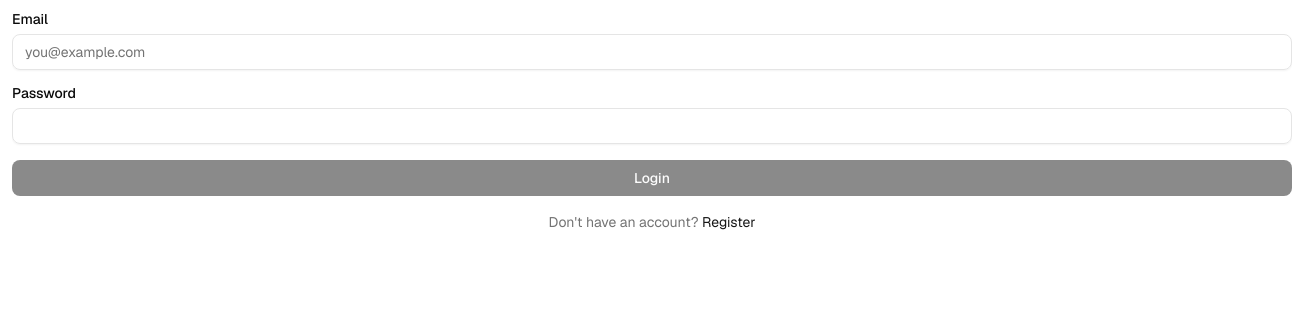
Test: LoginForm › should show generic error for other API errors
Type "test@example.com" into the field labelled "Email" at (652, 52), box [12, 34, 1292, 70]
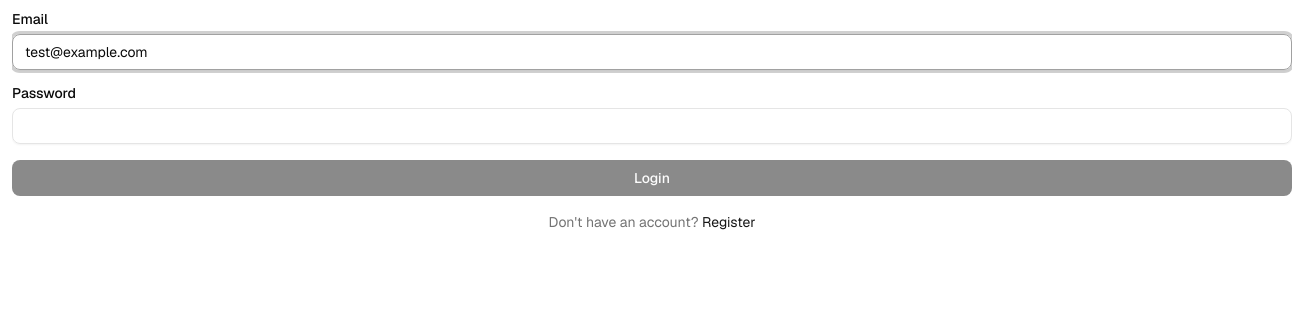
Type "password123" into the password field labelled "Password" at (652, 126), box [12, 108, 1292, 144]
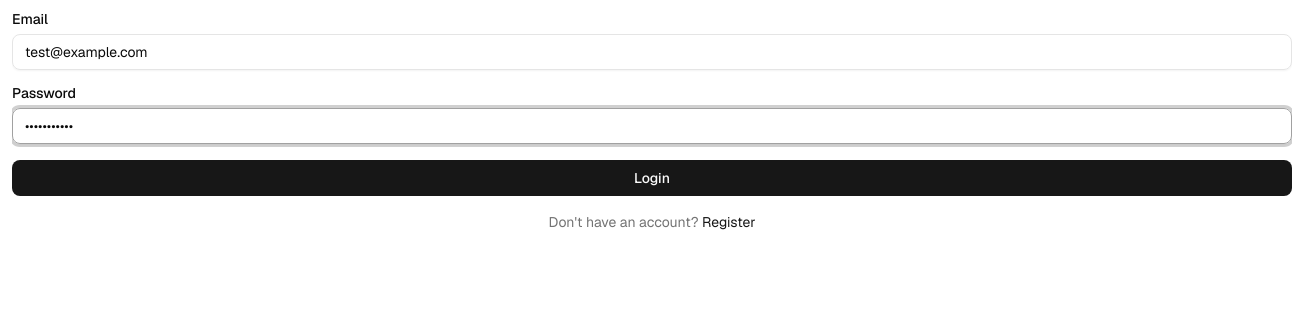
Click the button "Login" at (652, 178), box [12, 160, 1292, 196]
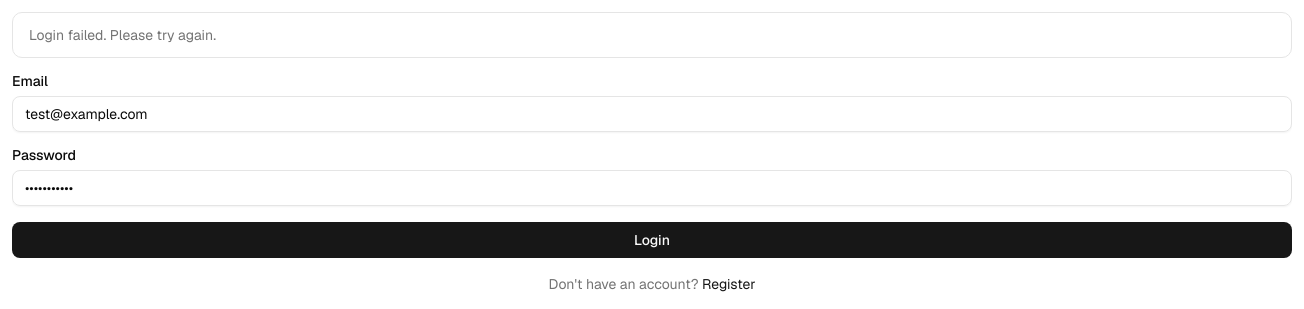
Now the text "Login failed. Please try again." is shown, box [29, 26, 216, 44]
